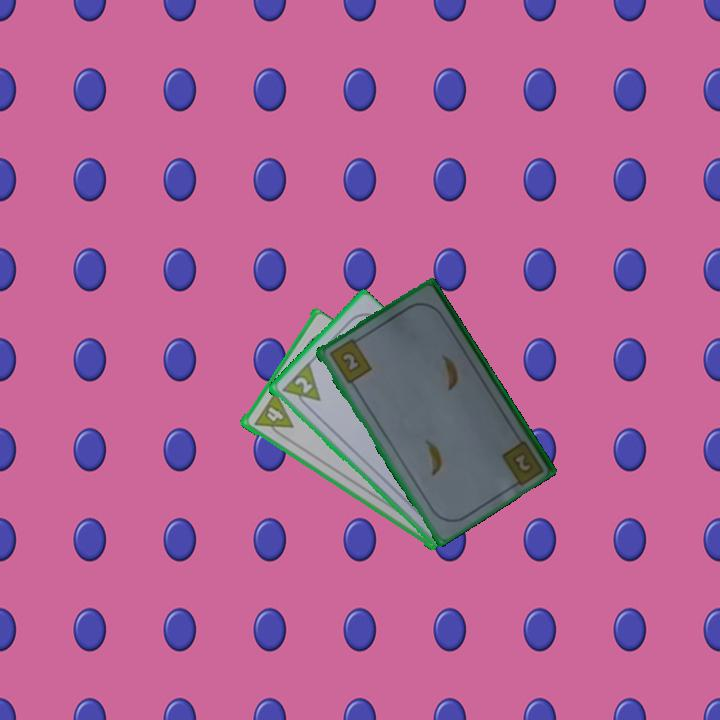2b: (325, 335, 374, 386), (509, 448, 533, 474)
2p: (291, 373, 315, 397)
4p: (250, 389, 295, 441)
